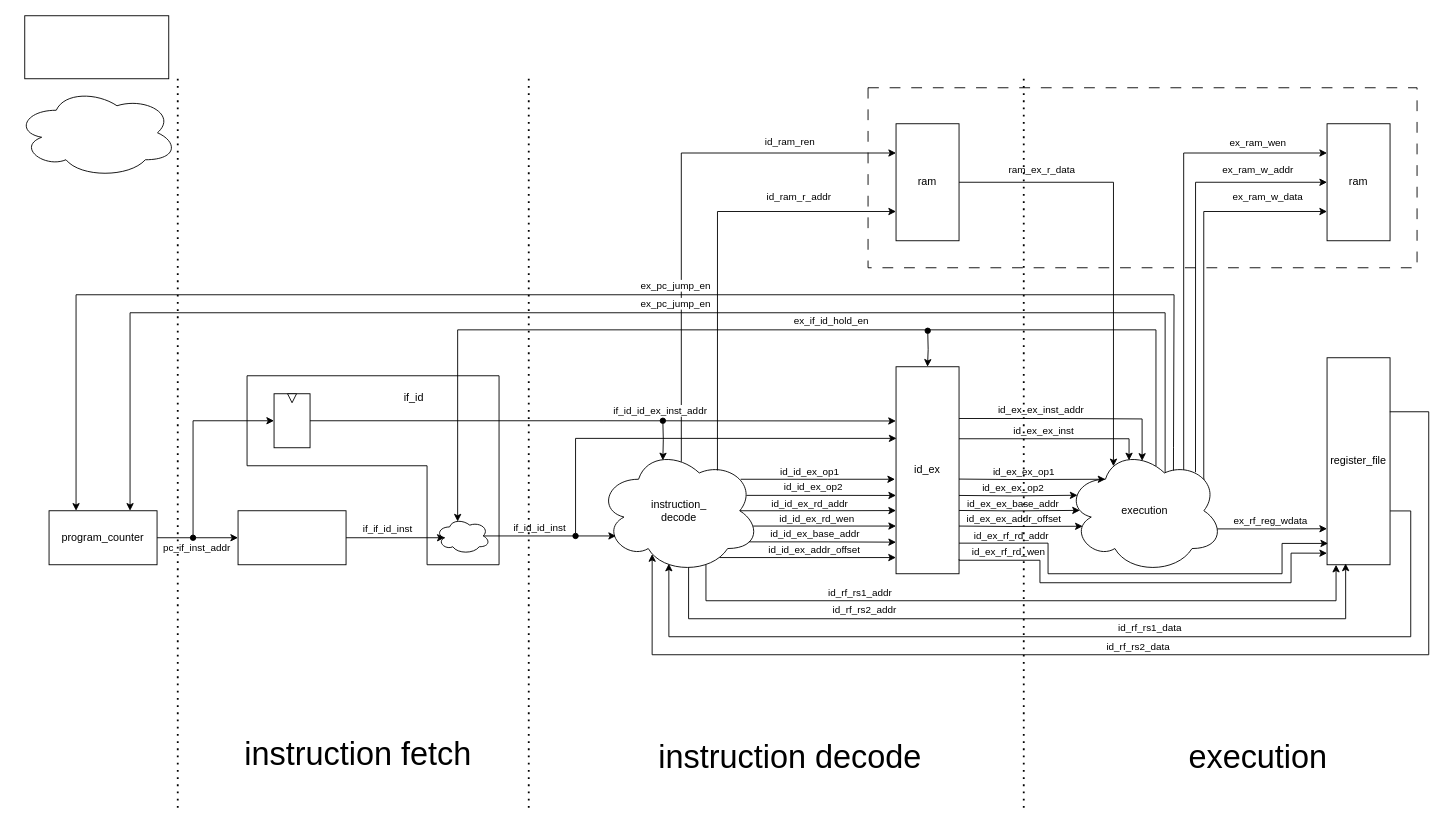
The diagram is 1452 pixels wide and 825 high, and some of its shapes have lost their labels. The centre of each missing label's shape, as x and y in pixels:
"combinational logic" goes at (x=96, y=132).
"instruction_fetch" goes at (x=291, y=537).
"sequential logic" goes at (x=96, y=47).
